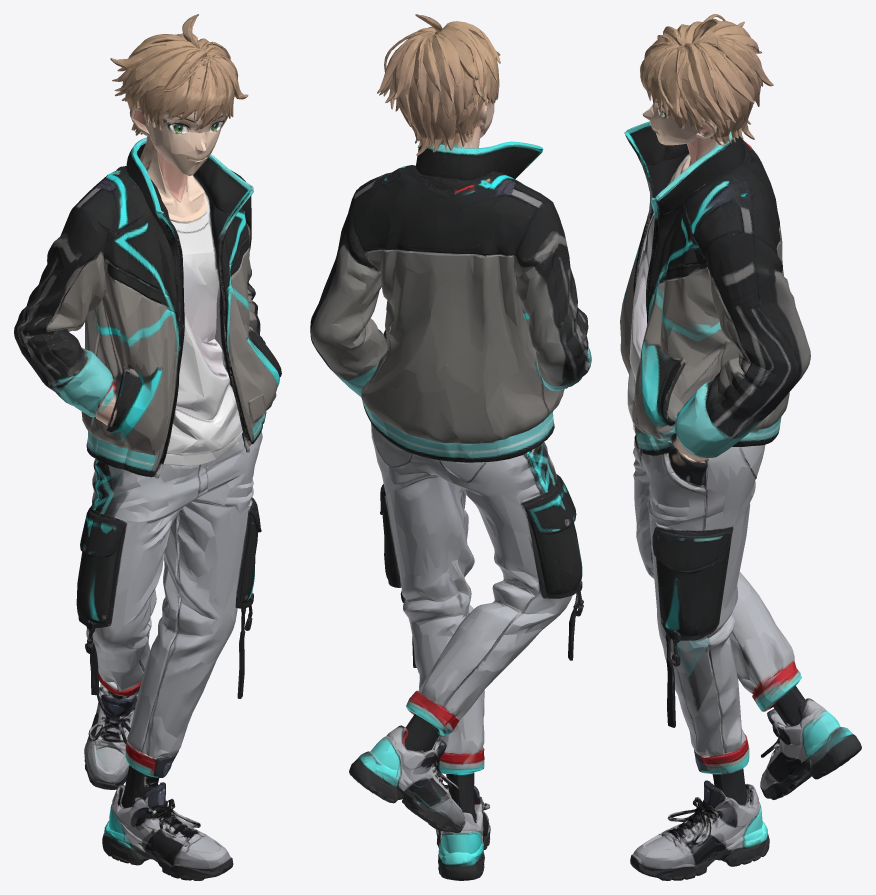
Rendered from maythas-anime-character.glb.
3 renders of one model, left to right at view 1: azimuth 30°, elevation 25°; view 2: azimuth 150°, elevation 25°; view 3: azimuth 270°, elevation 25°, orthographic. The views are drawn at different scales.
Bounding box in the file's own units: 0.5904 × 1.9 × 0.484.
1 material, 1 textured.
